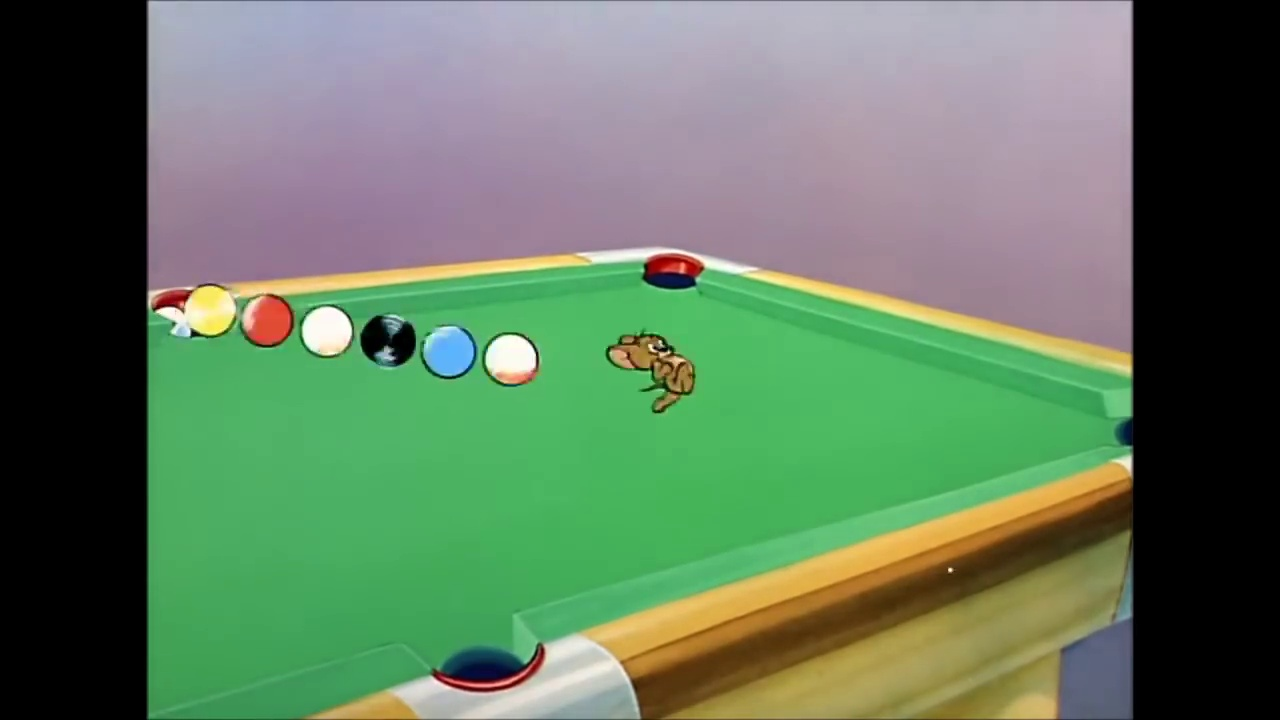sad: (634, 331, 671, 359)
